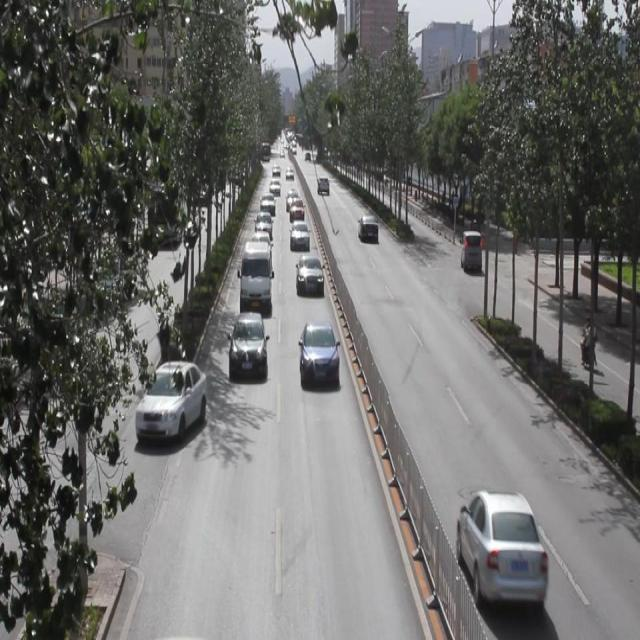car: (458, 486, 545, 600), (134, 360, 208, 442), (298, 319, 338, 387), (228, 310, 266, 379), (294, 254, 322, 295), (358, 212, 378, 243), (290, 220, 309, 251), (250, 228, 270, 257), (255, 211, 272, 236), (288, 196, 302, 221)
truck: (239, 240, 271, 310), (459, 228, 483, 271)
